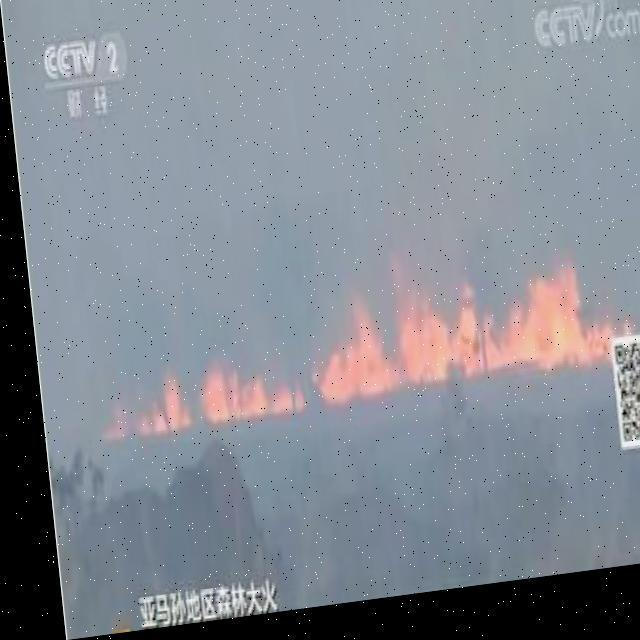Fire: (90, 264, 604, 434)
